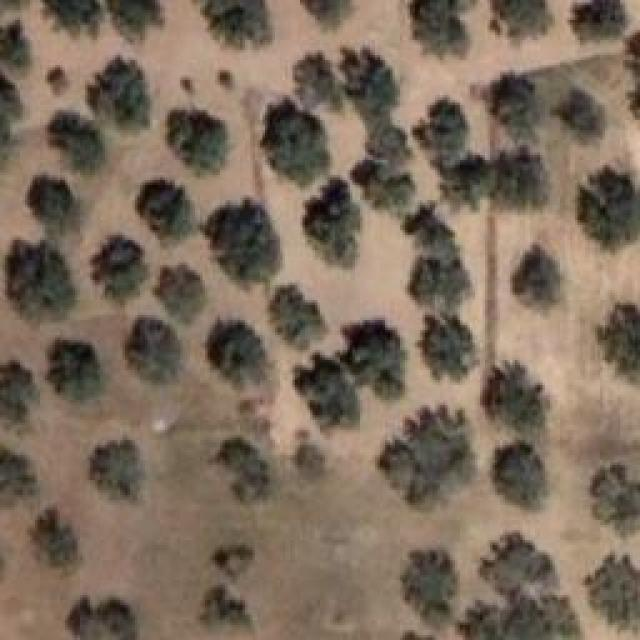Tree: (378, 405, 473, 503), (205, 198, 283, 282), (262, 100, 330, 187), (5, 240, 76, 323), (577, 165, 640, 250), (340, 320, 404, 401), (480, 532, 559, 597), (302, 178, 360, 266), (295, 353, 361, 430), (482, 363, 550, 431), (88, 55, 151, 128), (585, 555, 640, 633), (403, 550, 456, 628), (342, 48, 397, 120), (208, 320, 267, 386), (168, 110, 227, 175), (490, 145, 549, 210), (93, 235, 149, 303), (350, 158, 415, 216), (135, 180, 194, 243), (125, 318, 181, 384), (418, 315, 474, 380), (403, 203, 462, 264), (490, 73, 540, 144), (48, 112, 107, 172), (438, 147, 492, 212), (270, 285, 325, 348), (215, 440, 270, 503), (90, 438, 145, 500), (498, 440, 548, 508), (200, 0, 272, 47), (592, 465, 640, 535), (408, 260, 471, 313), (597, 302, 640, 379), (513, 243, 563, 309), (48, 340, 102, 401), (413, 98, 469, 156), (28, 176, 82, 236), (155, 263, 206, 324), (414, 0, 468, 57), (67, 597, 137, 640), (553, 88, 606, 142), (293, 53, 343, 110), (490, 0, 553, 43), (33, 510, 79, 568), (499, 597, 552, 640), (0, 360, 36, 422), (105, 0, 162, 39), (573, 0, 622, 41), (44, 0, 98, 36), (203, 585, 250, 626), (0, 447, 36, 497), (293, 430, 326, 478), (3, 73, 24, 146), (0, 20, 30, 67), (300, 0, 350, 28), (48, 68, 71, 96)
